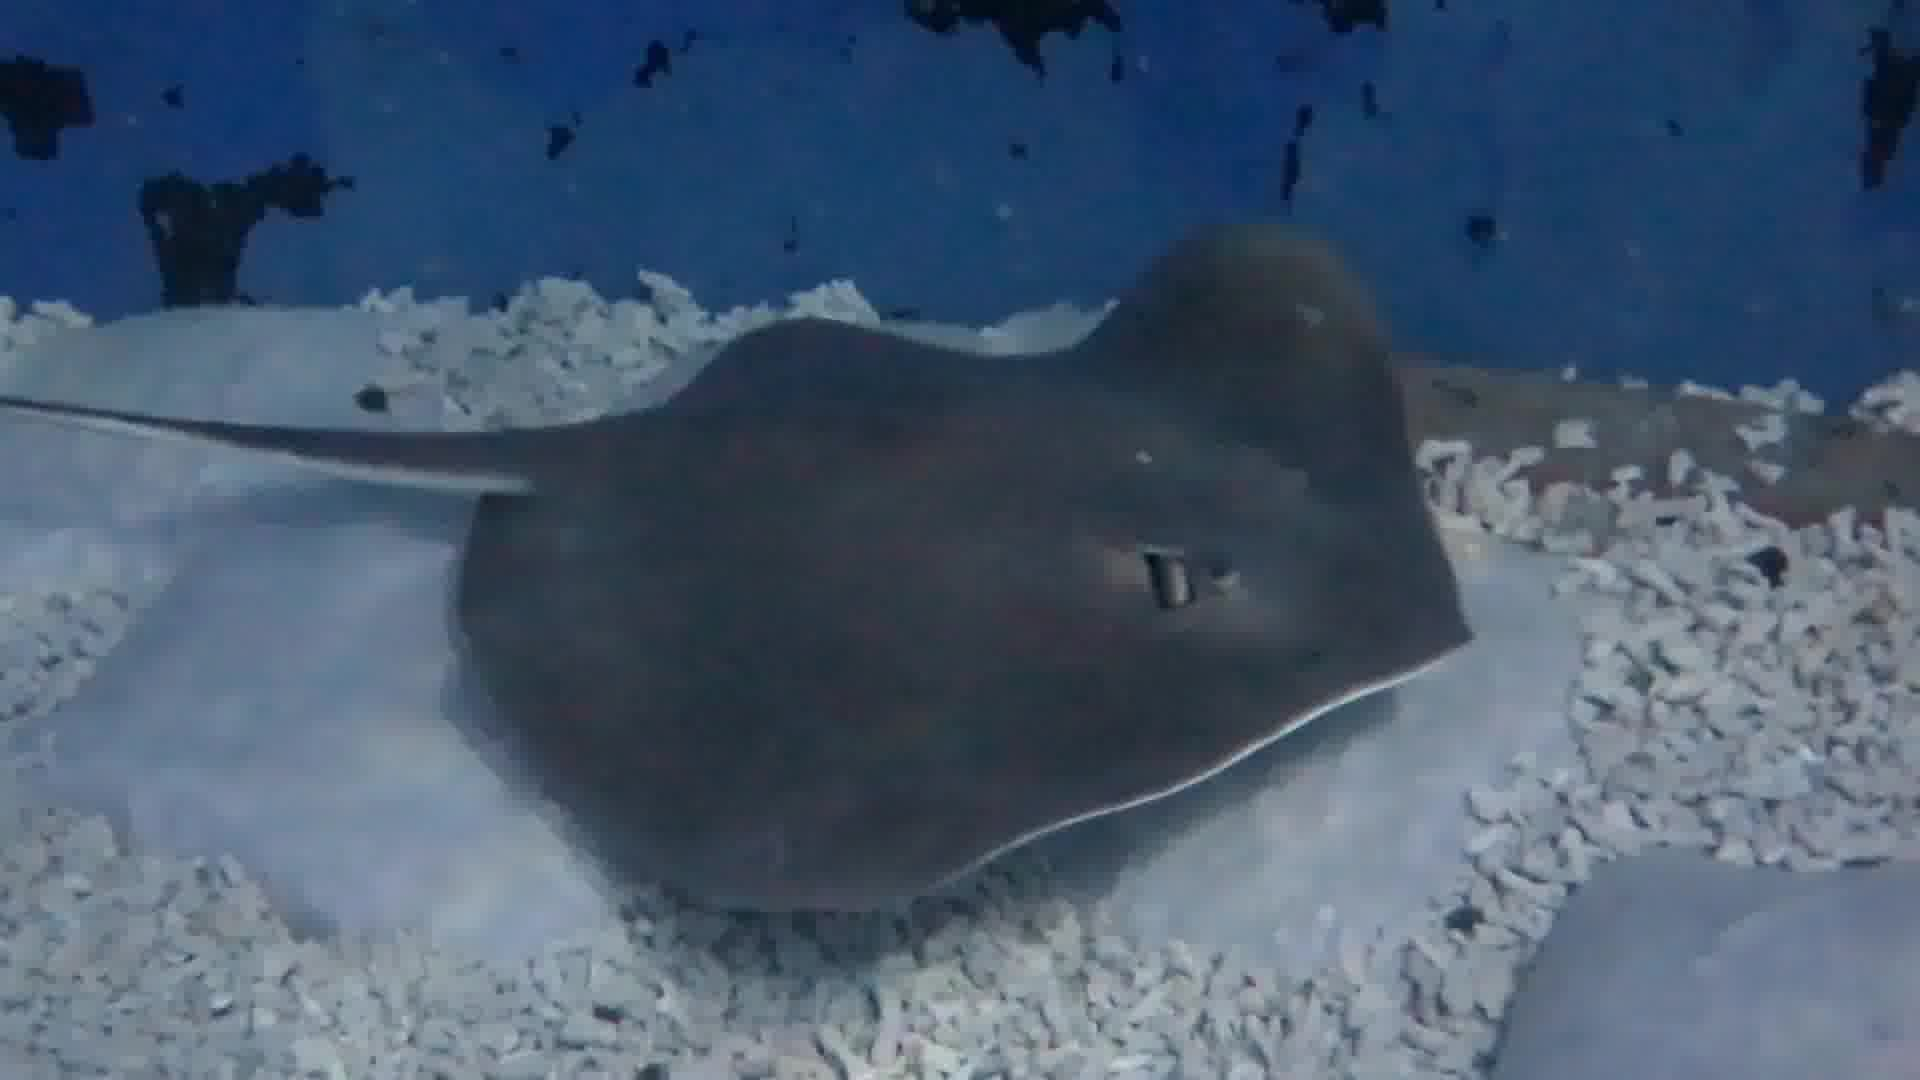Dasyatis bennetti: (446, 115, 1485, 944)
